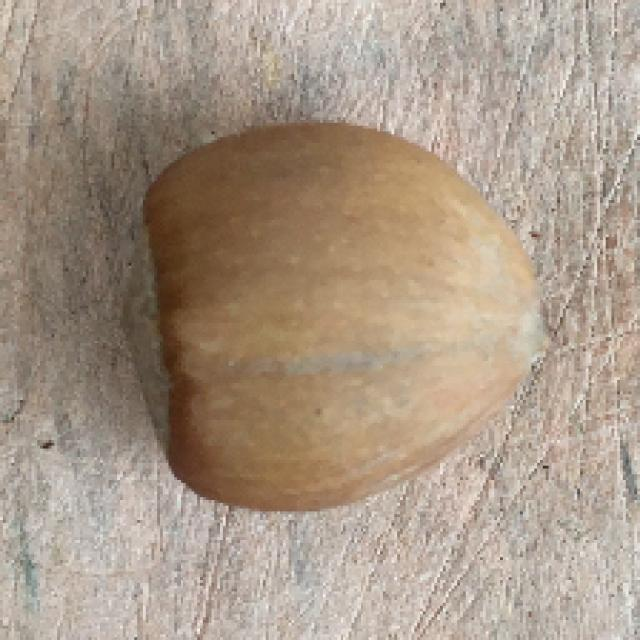damagedHazelnut: (112, 127, 551, 515)
